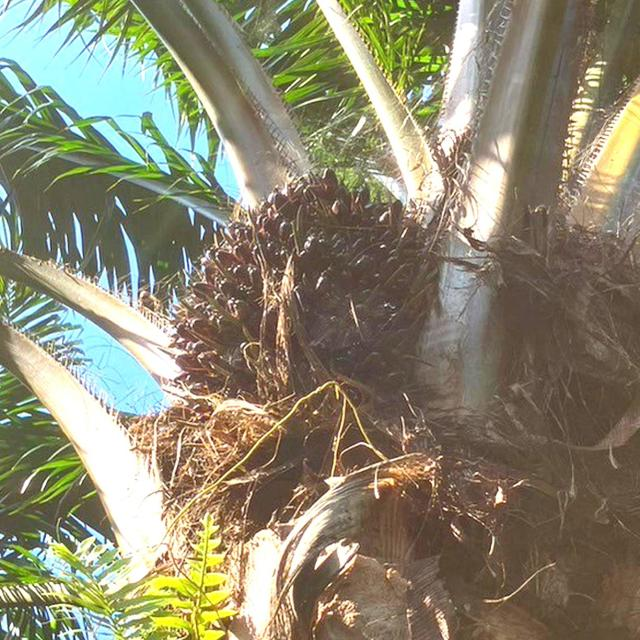ripe: (152, 157, 454, 456)
